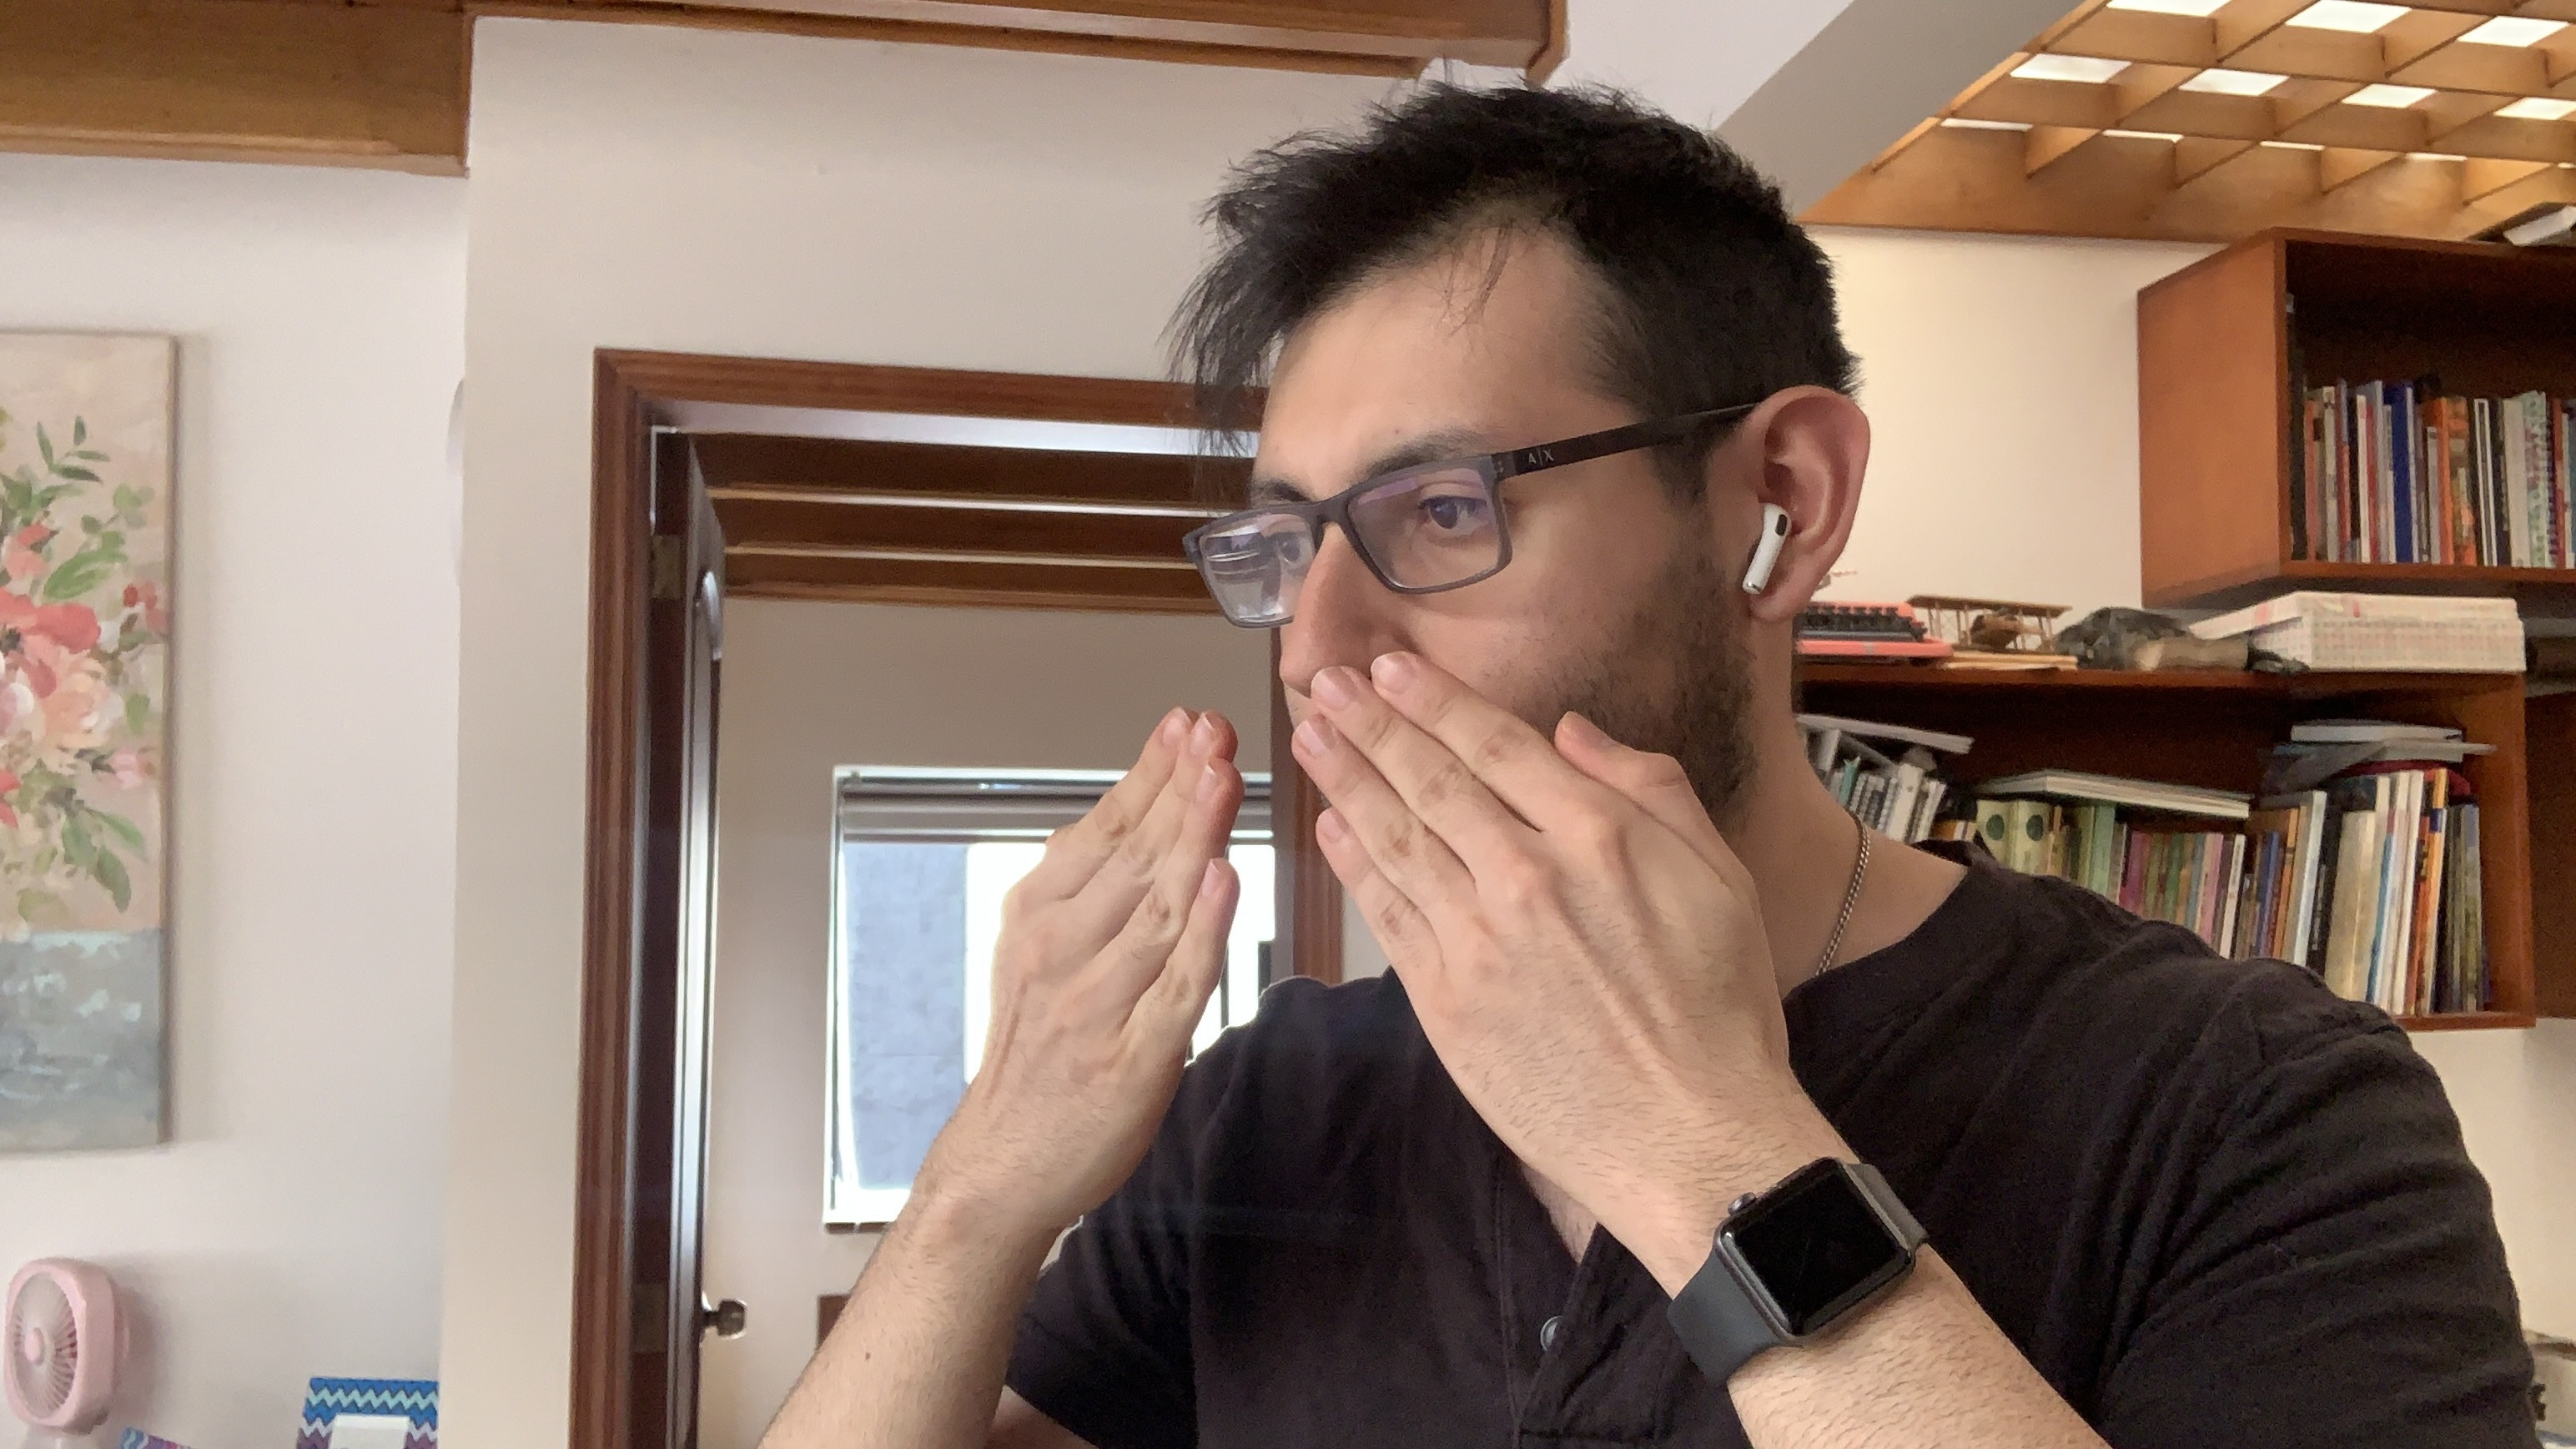Thank You: (954, 648, 1790, 1182)
